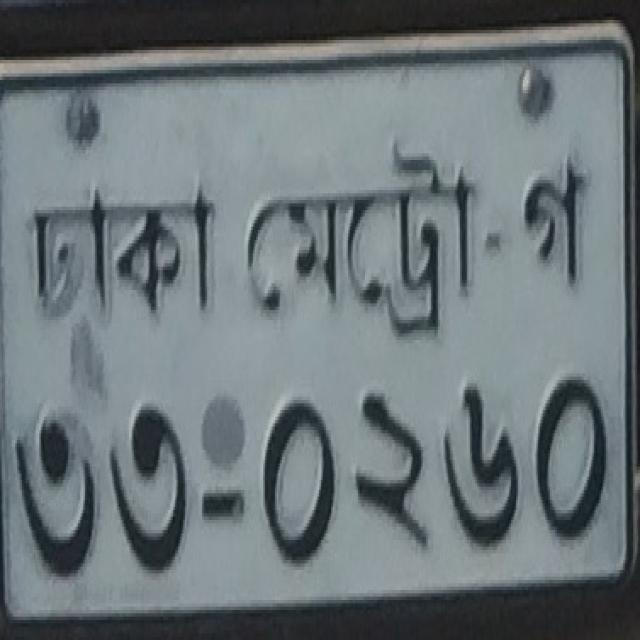numberplate: (1, 17, 636, 623)
